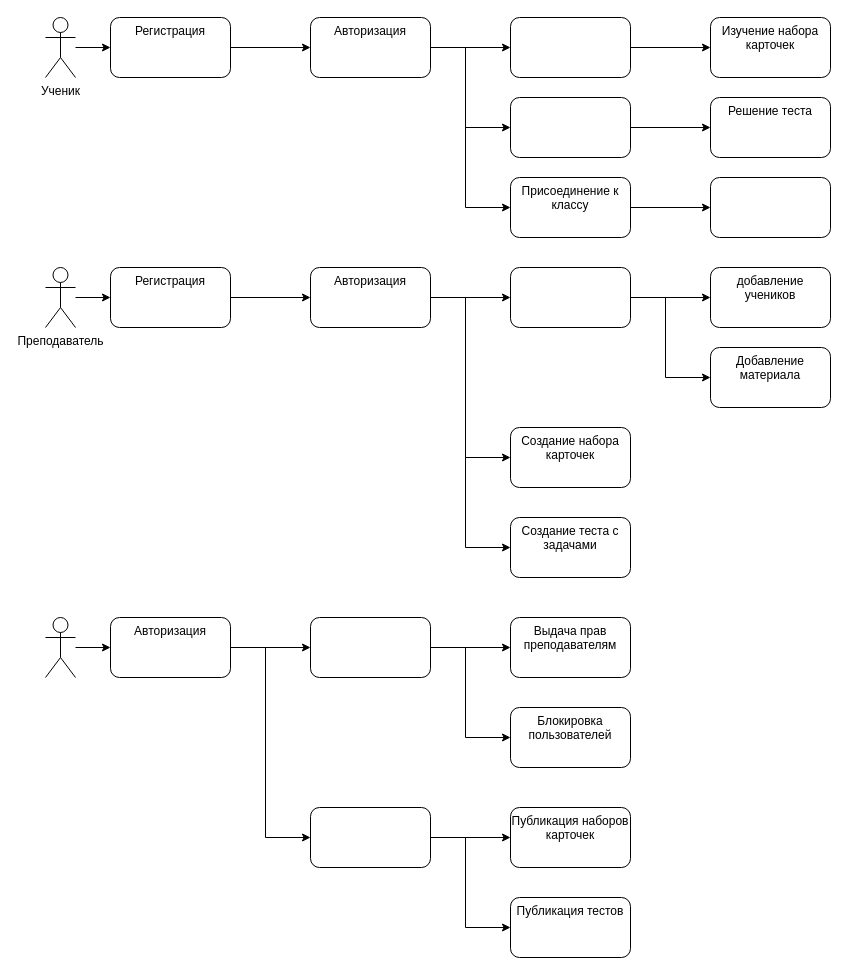
Image size: 848x975. Some labels were removed from this diagram. Here are the shapes that lost their labels. From the top down, the centre of each, then its label:
At (570,47): "Выбор набора карточек".
At (570,127): "Выбор теста".
At (770,207): "просмотр и изучение материала".
At (570,297): "Создание класса".
At (60,647): "Администратор".
At (370,647): "Управление пользователями".
At (370,837): "Управление заданиям".
